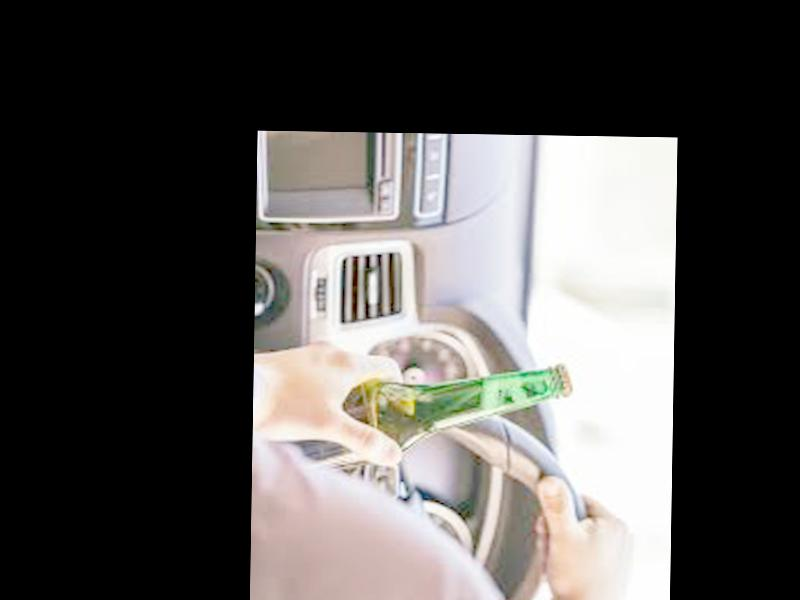Beer: (283, 357, 574, 472)
